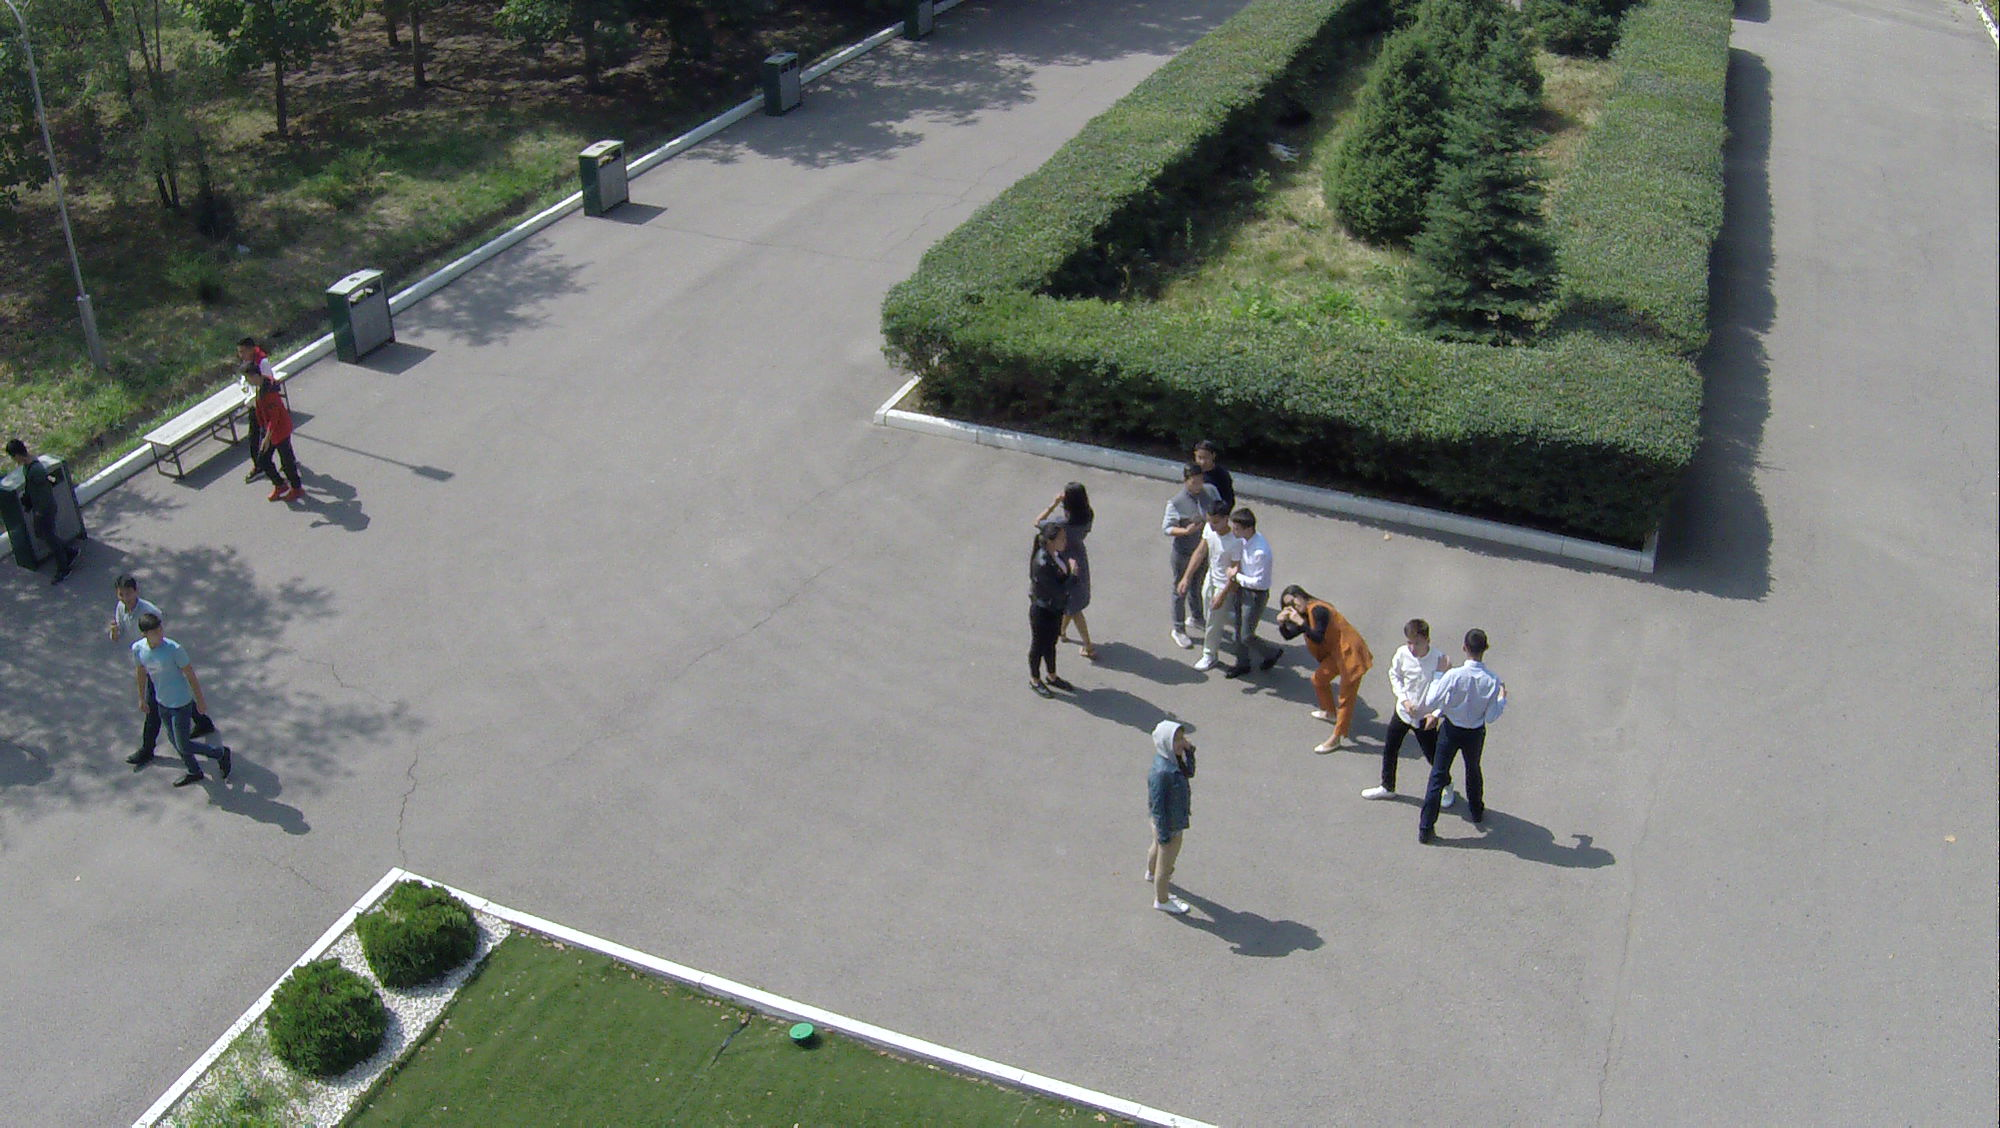person: (132, 612, 247, 795), (1418, 633, 1510, 847), (1272, 580, 1376, 762), (1368, 618, 1449, 814), (1032, 483, 1110, 662), (1141, 718, 1210, 922), (112, 583, 174, 774), (1178, 428, 1237, 620), (1168, 474, 1230, 651), (1020, 518, 1076, 705), (14, 439, 80, 591), (1222, 505, 1278, 680), (243, 374, 314, 501)
